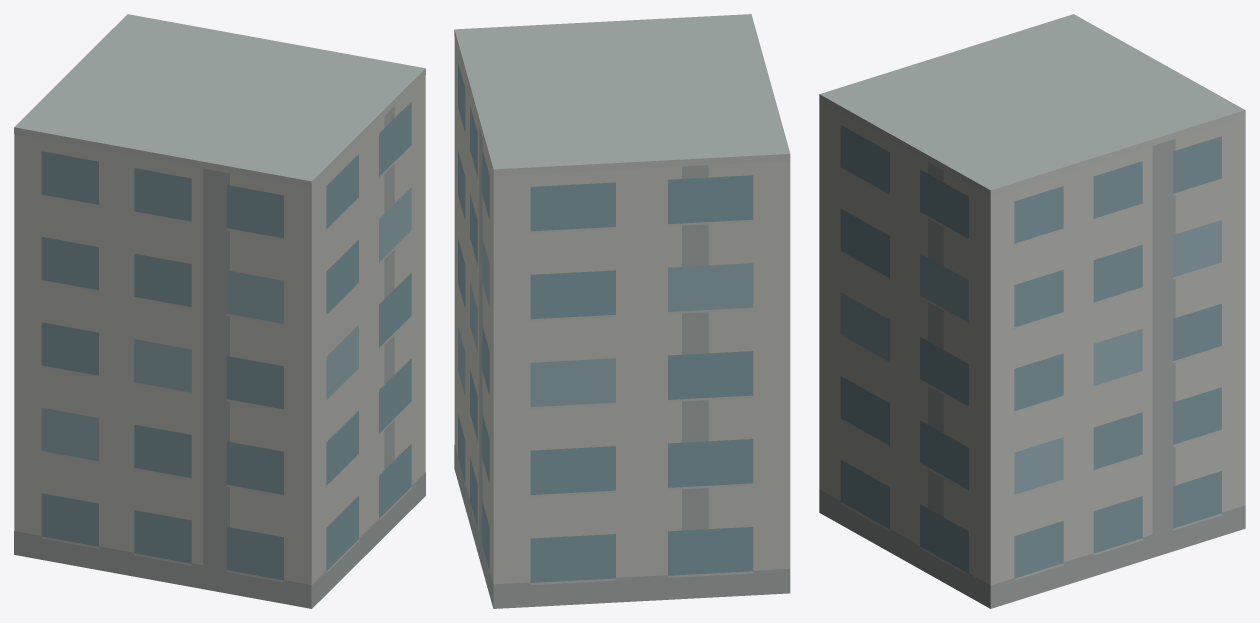
The model's file is survey-upis-32985987.glb.
The picture shows the model from 3 angles, left to right: view 1: azimuth 30°, elevation 25°; view 2: azimuth 150°, elevation 25°; view 3: azimuth 270°, elevation 25°; orthographic projection. The views are drawn at different scales.
Parts seen in each view (by area): view 1: survey-upis-32985987.tmp; view 2: survey-upis-32985987.tmp; view 3: survey-upis-32985987.tmp.
Part boxes in pixels (<box>): survey-upis-32985987.tmp: <box>14,14,425,608</box>; survey-upis-32985987.tmp: <box>454,14,790,608</box>; survey-upis-32985987.tmp: <box>819,14,1245,608</box>.
Size of the model in its own units: 13.75 by 15.2 by 14.03.
